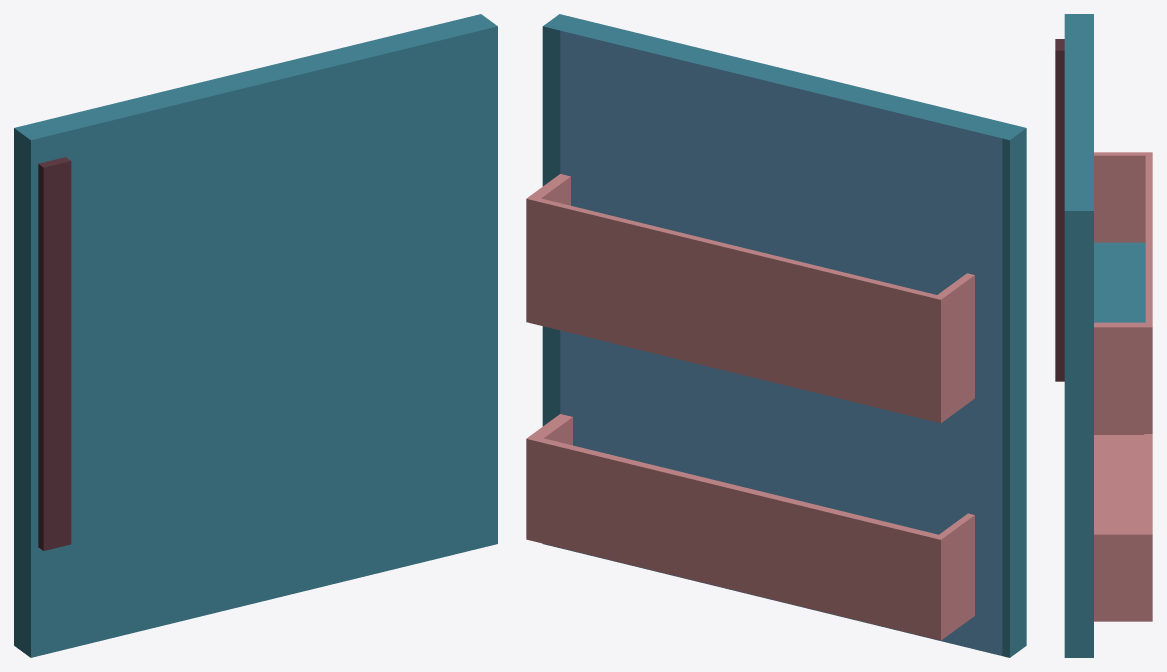
The model's file is fridge_door.fbx.
3 renders of one model, left to right at view 1: azimuth 30°, elevation 25°; view 2: azimuth 150°, elevation 25°; view 3: azimuth 270°, elevation 25°, orthographic. The views are drawn at different scales.
Parts seen in each view (by area): view 1: polySurface4; view 2: polySurface4; view 3: polySurface4.
Part boxes in pixels (box(x1,y1,x2,y2)): polySurface4: box(14, 14, 497, 657); polySurface4: box(526, 14, 1026, 657); polySurface4: box(1055, 14, 1152, 657).
Bounding box in the file's own units: 8.17 × 8.65 × 1.7.
